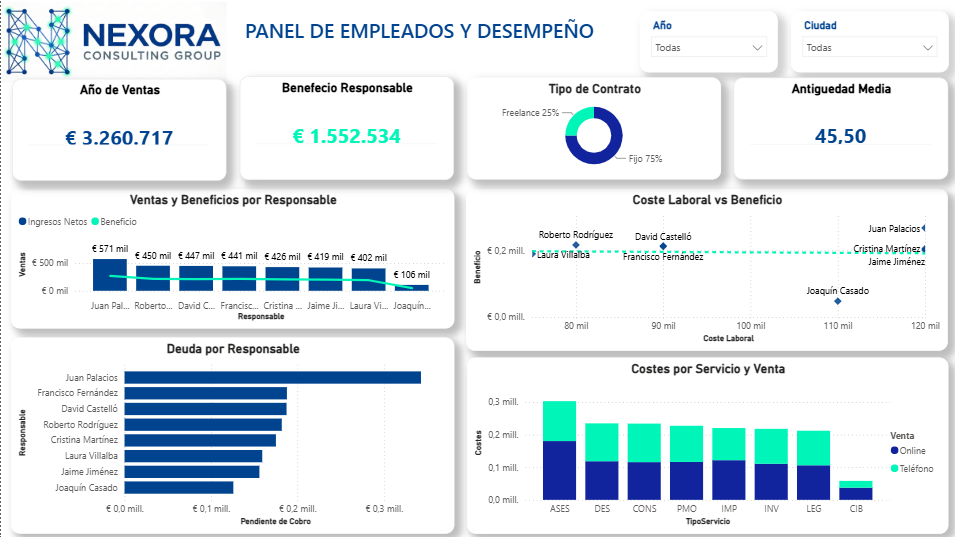

Layout of this report page (visuals, bound fields, positions):
{"tool":"powerbi","page":{"name":"Empleados","canvas":[1280,720],"ordinal":2},"visuals":[{"type":"image","box":[0,0,300.5,112.5],"z":0},{"type":"textbox","box":[300,0,515.7,112.9],"z":1000},{"type":"slicer","fields":{"Values":["Calendario.Año"]},"box":[851.4,14.3,184.3,81.4],"z":2000},{"type":"slicer","fields":{"Values":["Geografia.Ciudad"]},"box":[1052.9,14.3,210,81.4],"z":3000},{"type":"lineClusteredColumnComboChart","title":"Ventas y Beneficios por Responsable","fields":{"Y":["_Medidas.Ingresos Netos"],"Y2":["_Medidas.Beneficio"],"Category":["Tipo Servicio.Responsable"]},"box":[12.5,251.2,591.2,186.2],"z":4000},{"type":"scatterChart","title":"Coste Laboral vs Beneficio","fields":{"X":["_Medidas.Coste Laboral"],"Y":["_Medidas.Beneficio"],"Category":["Tipo Servicio.Responsable"]},"box":[620,251.2,642.5,216.2],"z":5000},{"type":"donutChart","title":"Tipo de Contrato","fields":{"Category":["Empleados.TipoContrato"],"Y":["CountNonNull(Tipo Servicio.Responsable)"]},"box":[621.2,103.8,338.8,136.2],"z":6000},{"type":"cardVisual","title":"Antiguedad Media","fields":{"Data":["_Medidas.Antiguedad Media"]},"box":[976.2,103.8,286.2,136.2],"z":7000},{"type":"barChart","title":"Deuda por Responsable","fields":{"Y":["_Medidas.Pendiente de Cobro"],"Category":["Tipo Servicio.Responsable"]},"box":[12.5,450,591.2,261.2],"z":8000},{"type":"columnChart","title":"Costes por Servicio y Venta","fields":{"Category":["Factura.TipoServicio"],"Y":["_Medidas.Costes"],"Series":["Factura.TipoVenta"]},"box":[621.2,476.2,641.2,235],"z":9000},{"type":"cardVisual","title":"Año de Ventas","fields":{"Data":["_Medidas.Ingresos Netos"]},"box":[14.3,104.3,285.7,135.7],"z":10000},{"type":"cardVisual","title":"Benefecio Responsable","fields":{"Data":["_Medidas.Beneficio"]},"box":[318.6,101.4,285.7,138.6],"z":11000}]}

Visuals, with their boxes in screenshot pixels (x1, y1, x2, y2), scaled from the page's 1280x720 canvas onto the 955x537 screenshot:
image: [x1=0, y1=0, x2=224, y2=84]
textbox: [x1=224, y1=0, x2=609, y2=84]
slicer - Calendario.Año: [x1=635, y1=11, x2=773, y2=71]
slicer - Geografia.Ciudad: [x1=786, y1=11, x2=942, y2=71]
"Ventas y Beneficios por Responsable" lineClusteredColumnComboChart: [x1=9, y1=187, x2=450, y2=326]
"Coste Laboral vs Beneficio" scatterChart: [x1=463, y1=187, x2=942, y2=349]
"Tipo de Contrato" donutChart: [x1=463, y1=77, x2=716, y2=179]
"Antiguedad Media" cardVisual: [x1=728, y1=77, x2=942, y2=179]
"Deuda por Responsable" barChart: [x1=9, y1=336, x2=450, y2=530]
"Costes por Servicio y Venta" columnChart: [x1=463, y1=355, x2=942, y2=530]
"Año de Ventas" cardVisual: [x1=11, y1=78, x2=224, y2=179]
"Benefecio Responsable" cardVisual: [x1=238, y1=76, x2=451, y2=179]
